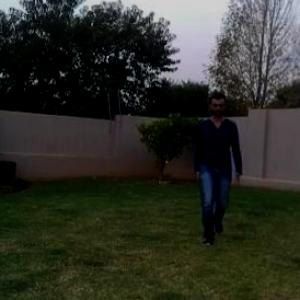follow: (192, 97, 238, 241)
